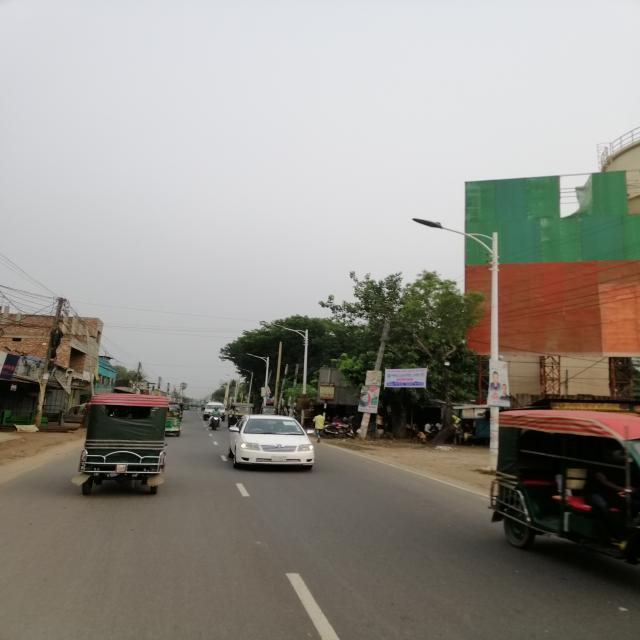Car: (222, 413, 319, 470)
